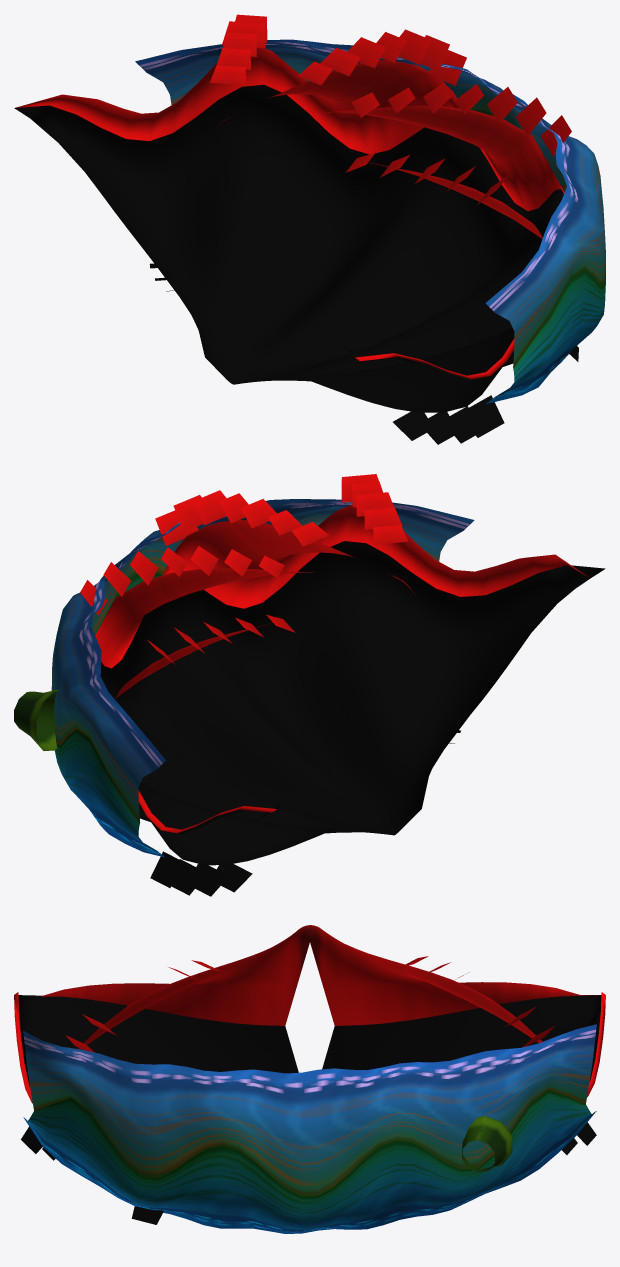
Rendered from maxima_clam.glb.
The picture shows the model from 3 angles, top to bottom: view 1: azimuth 30°, elevation 25°; view 2: azimuth 150°, elevation 25°; view 3: azimuth 270°, elevation 25°; orthographic projection. The views are drawn at different scales.
Parts seen in each view (by area): view 1: Shell, Mantle; view 2: Shell, Mantle; view 3: Mantle, Shell.
Part boxes in pixels (x1,y1,x2,y2): Shell: [14, 14, 578, 444]; Mantle: [135, 39, 605, 403]; Shell: [80, 474, 605, 896]; Mantle: [14, 499, 474, 857]; Mantle: [23, 1024, 596, 1233]; Shell: [14, 925, 605, 1224].
Bounding box in the file's own units: 0.6202 × 0.459 × 1.
Materials: 2 (2 with a texture image).
